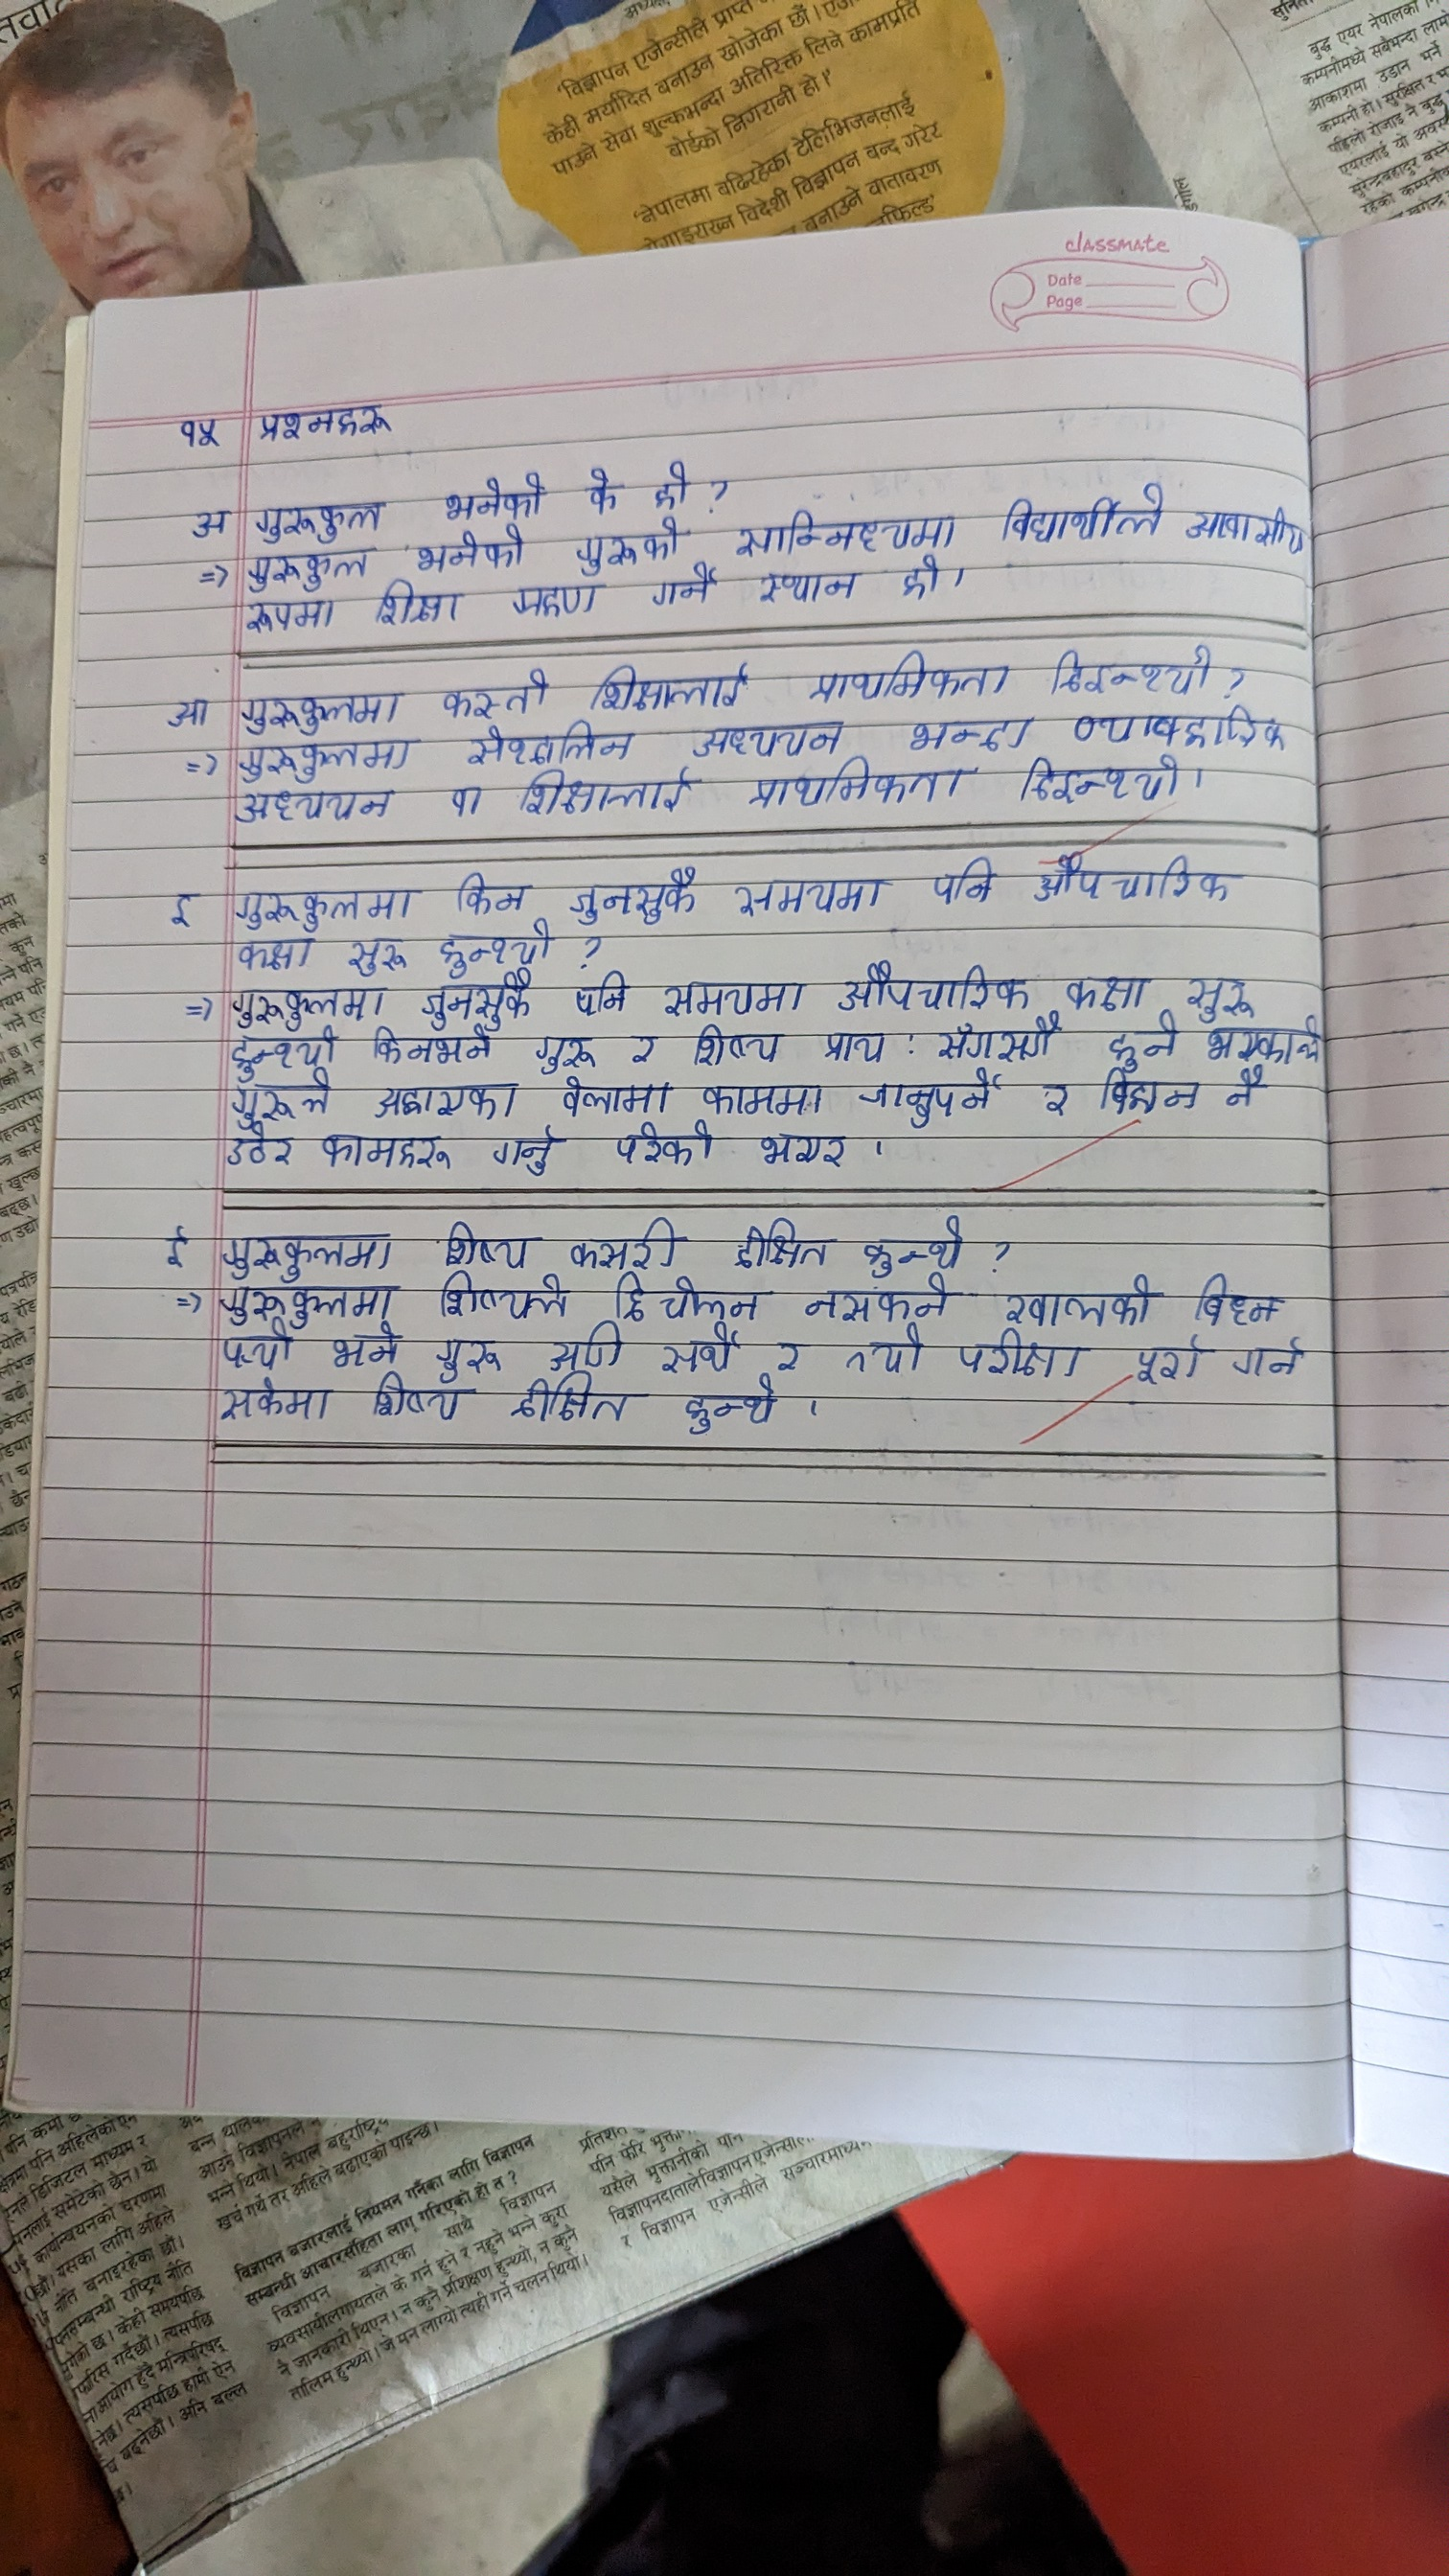text: (1031, 849, 1253, 904), (740, 757, 975, 807), (830, 957, 1033, 1014), (1062, 704, 1292, 752), (998, 485, 1168, 547), (809, 649, 1008, 701), (729, 510, 957, 554), (223, 1224, 396, 1281), (1042, 640, 1219, 695), (855, 1067, 1010, 1127), (232, 881, 419, 931), (998, 1270, 1159, 1327), (517, 770, 699, 819), (1016, 754, 1184, 807), (584, 660, 752, 711), (609, 1270, 777, 1320), (571, 863, 702, 925), (211, 1284, 407, 1325), (803, 1274, 957, 1325), (732, 865, 885, 916), (856, 1208, 970, 1274), (458, 724, 637, 764), (658, 971, 810, 1017), (957, 1327, 1093, 1378), (230, 984, 387, 1028), (934, 1010, 1065, 1063), (1180, 497, 1302, 554), (232, 692, 402, 732), (241, 738, 410, 778), (511, 1371, 633, 1428), (226, 787, 395, 828), (373, 1077, 522, 1123), (439, 920, 557, 975), (563, 1215, 683, 1269), (318, 1132, 460, 1177), (435, 1272, 570, 1318), (681, 1375, 784, 1435), (1187, 1263, 1286, 1325), (432, 669, 548, 720), (688, 718, 849, 755), (423, 975, 534, 1028), (729, 1215, 830, 1274), (405, 527, 524, 577), (251, 499, 384, 543), (571, 520, 681, 573), (1092, 1067, 1201, 1120), (435, 471, 547, 522), (901, 711, 1040, 752), (246, 402, 389, 441), (439, 1212, 534, 1270), (226, 1028, 341, 1076), (216, 1375, 331, 1422), (248, 550, 370, 593), (228, 1076, 334, 1123), (612, 1120, 718, 1168), (1203, 1023, 1323, 1063), (844, 1323, 931, 1378), (697, 1079, 824, 1116), (559, 1077, 671, 1118), (755, 1125, 851, 1171), (1106, 1010, 1182, 1067), (658, 1322, 741, 1373), (366, 1028, 492, 1062), (755, 570, 863, 609), (547, 1320, 628, 1371), (1125, 1332, 1207, 1384), (368, 582, 458, 626), (690, 1023, 780, 1067), (1184, 970, 1258, 1021), (451, 869, 531, 916), (1060, 968, 1148, 1010), (370, 1384, 476, 1419), (218, 1325, 297, 1371), (649, 563, 722, 612), (1233, 1332, 1307, 1380), (929, 853, 996, 904), (433, 1336, 504, 1384), (228, 934, 317, 971), (494, 1123, 556, 1177), (529, 1031, 605, 1074), (225, 1125, 301, 1168), (331, 1320, 400, 1366), (241, 600, 333, 633), (571, 966, 633, 1016), (508, 586, 607, 616), (816, 1028, 890, 1065), (349, 934, 410, 978), (166, 409, 225, 455), (1221, 1065, 1270, 1115), (449, 775, 495, 823), (648, 458, 688, 510), (186, 501, 235, 541), (901, 556, 945, 600), (582, 469, 619, 520), (159, 888, 202, 931), (157, 1223, 193, 1272), (165, 694, 211, 729), (621, 1028, 660, 1063), (1040, 1077, 1072, 1118), (773, 1336, 803, 1373)
